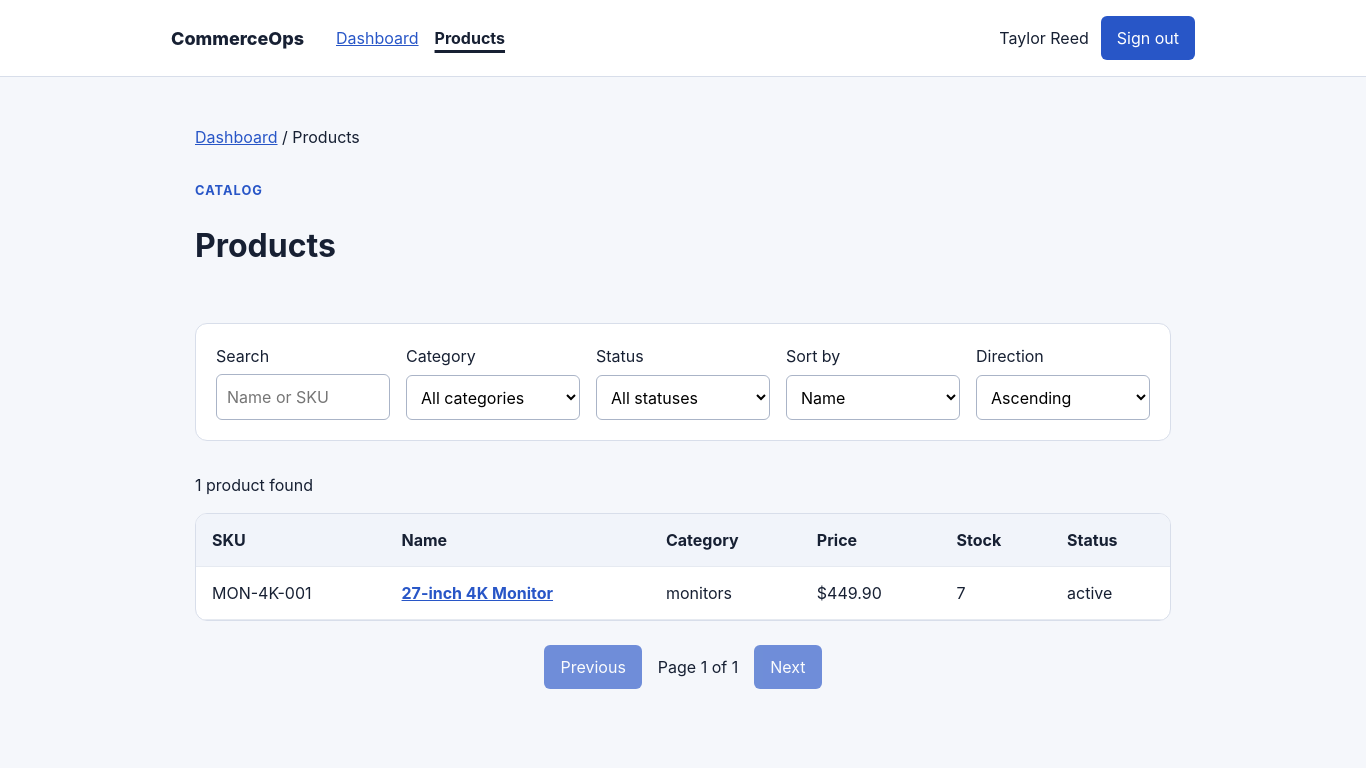
Test case: authentication UI › debounces product search before requesting matching results
Expected: the column heading "27-inch 4K Monitor" is shown, [386,567,650,620]
Type "podcast" into the search field labelled "Search". click: (303, 397)
box: [216,374,390,420]
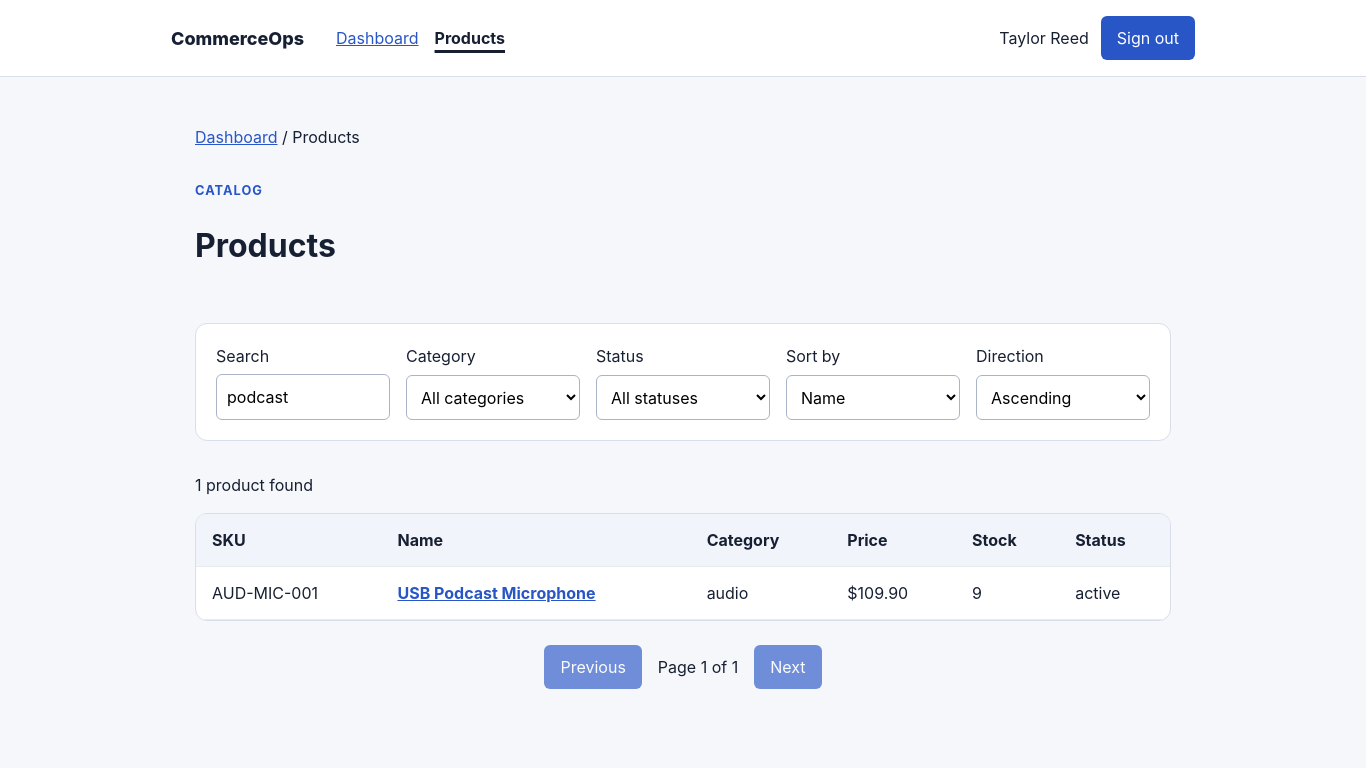
Expected: the column heading "USB Podcast Microphone" is shown, [382,567,691,620]
